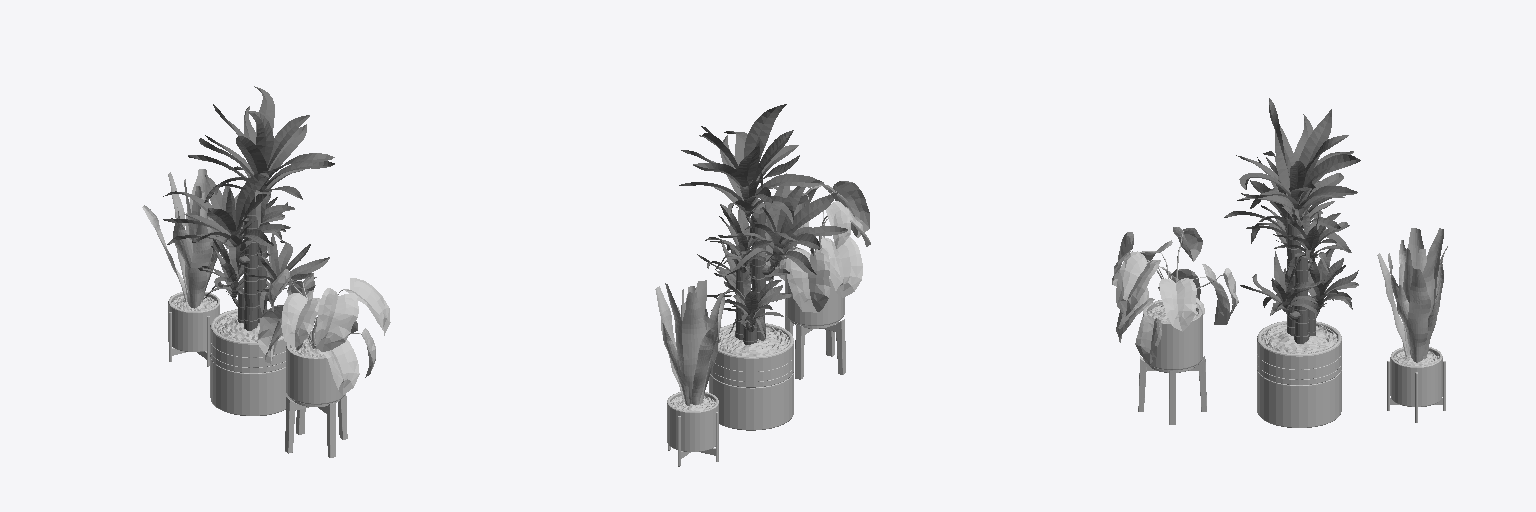
The picture shows the model from 3 angles: view 1: azimuth 30°, elevation 25°; view 2: azimuth 150°, elevation 25°; view 3: azimuth 270°, elevation 25°; orthographic projection.
Visible parts, largest first — view 1: 6-_Dracanea_Fragans_M, 4-_Philodendron_Bipin, 5-_WOOD_CERAMIC_POT_0, 3-_WOODEN_FEET_POT_03, 1-_Sansevieria_Trifas, 2-_WOODEN_FEET_POT_02; view 2: 6-_Dracanea_Fragans_M, 5-_WOOD_CERAMIC_POT_0, 4-_Philodendron_Bipin, 1-_Sansevieria_Trifas, 2-_WOODEN_FEET_POT_02, 3-_WOODEN_FEET_POT_03; view 3: 6-_Dracanea_Fragans_M, 5-_WOOD_CERAMIC_POT_0, 4-_Philodendron_Bipin, 1-_Sansevieria_Trifas, 3-_WOODEN_FEET_POT_03, 2-_WOODEN_FEET_POT_02.
Boxes of the visible parts, x1=… form: 6-_Dracanea_Fragans_M: x1=163, y1=86, x2=334, y2=330; 4-_Philodendron_Bipin: x1=257, y1=269, x2=390, y2=395; 5-_WOOD_CERAMIC_POT_0: x1=210, y1=309, x2=292, y2=415; 3-_WOODEN_FEET_POT_03: x1=285, y1=333, x2=347, y2=457; 1-_Sansevieria_Trifas: x1=142, y1=169, x2=230, y2=308; 2-_WOODEN_FEET_POT_02: x1=168, y1=292, x2=219, y2=366; 6-_Dracanea_Fragans_M: x1=679, y1=104, x2=847, y2=344; 5-_WOOD_CERAMIC_POT_0: x1=709, y1=323, x2=793, y2=430; 4-_Philodendron_Bipin: x1=766, y1=181, x2=870, y2=312; 1-_Sansevieria_Trifas: x1=655, y1=280, x2=724, y2=405; 2-_WOODEN_FEET_POT_02: x1=667, y1=392, x2=718, y2=466; 3-_WOODEN_FEET_POT_03: x1=785, y1=268, x2=845, y2=379; 6-_Dracanea_Fragans_M: x1=1224, y1=98, x2=1360, y2=343; 5-_WOOD_CERAMIC_POT_0: x1=1257, y1=321, x2=1341, y2=427; 4-_Philodendron_Bipin: x1=1112, y1=227, x2=1238, y2=363; 1-_Sansevieria_Trifas: x1=1377, y1=228, x2=1447, y2=362; 3-_WOODEN_FEET_POT_03: x1=1138, y1=300, x2=1206, y2=424; 2-_WOODEN_FEET_POT_02: x1=1387, y1=347, x2=1445, y2=422.
Size of the model in its own units: 1.19 by 2.36 by 2.37.